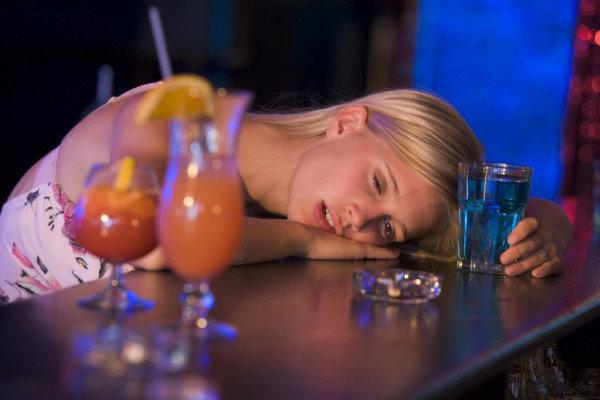Drunk: (294, 151, 444, 241)
